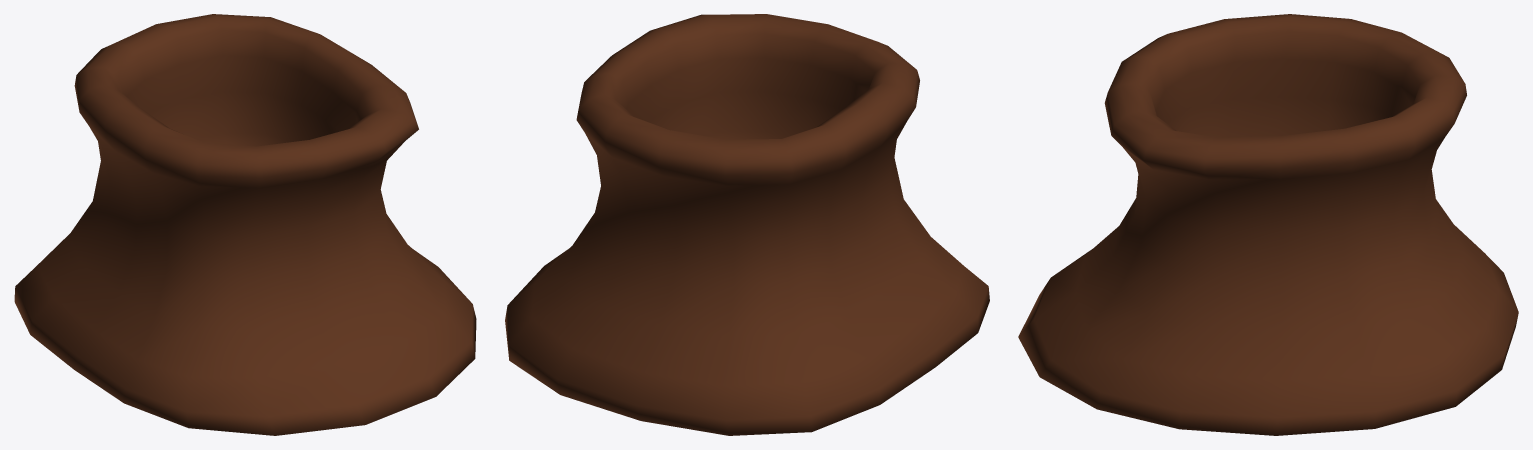
File: volcano.glb
3 renders of one model, left to right at view 1: azimuth 30°, elevation 25°; view 2: azimuth 150°, elevation 25°; view 3: azimuth 270°, elevation 25°, orthographic. The views are drawn at different scales.
Visible parts, largest first — view 1: Cube; view 2: Cube; view 3: Cube.
Part boxes in pixels (x1,y1,x2,y2): Cube: [14, 14, 476, 435]; Cube: [505, 14, 989, 435]; Cube: [1018, 14, 1518, 435].
Bounding box in the file's own units: 1.13 × 0.7607 × 1.26.
